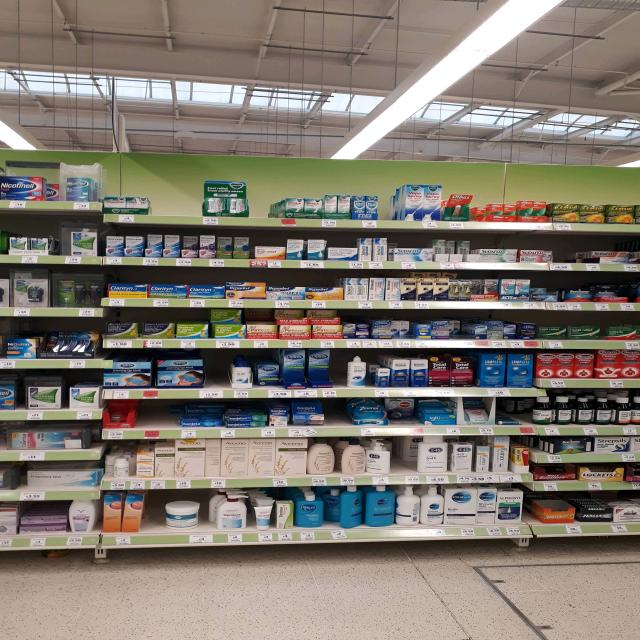void: (140, 401, 176, 438), (176, 180, 201, 227), (204, 354, 230, 399), (254, 184, 278, 226), (152, 180, 174, 225), (330, 402, 353, 436), (554, 242, 580, 270)
